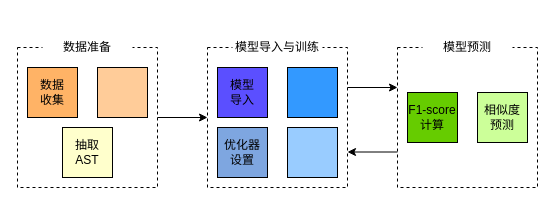
Some shapes in this 555 by 205 pixel diagram are drawn without their labels. The shapes that lost their labels are listed below. From the top down, each one's box as (x1, y1, x2, y2) in pixels, then its label:
(96, 66, 148, 118): 等价语义转换
(286, 66, 338, 118): 超参数 调整
(286, 126, 338, 178): 迭代 训练
